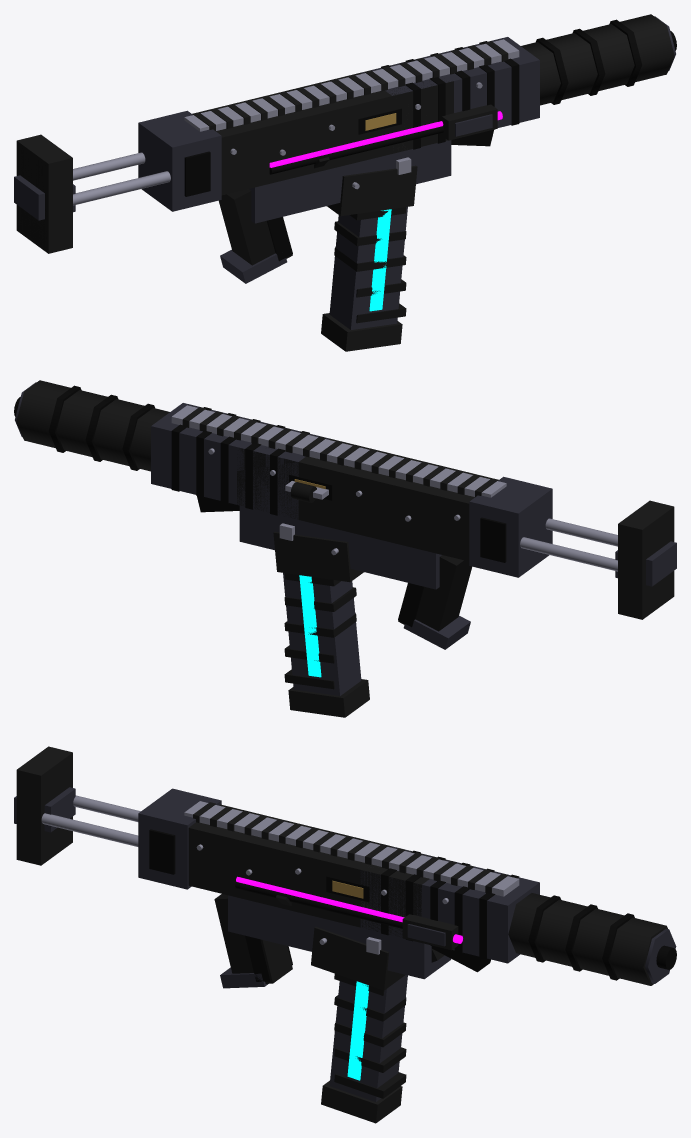
The model's file is mitraglietta.glb.
3 views of the same model, one above another, from view 1: azimuth 30°, elevation 25°; view 2: azimuth 150°, elevation 25°; view 3: azimuth 330°, elevation 25° (orthographic).
Parts seen in each view (by area): view 1: SMG; view 2: SMG; view 3: SMG.
Part boxes in pixels (bbox=[...]): SMG: bbox=[14, 14, 676, 351]; SMG: bbox=[14, 380, 676, 717]; SMG: bbox=[14, 746, 676, 1123].
Size of the model in its own units: 5.25 by 2.1 by 0.72.
